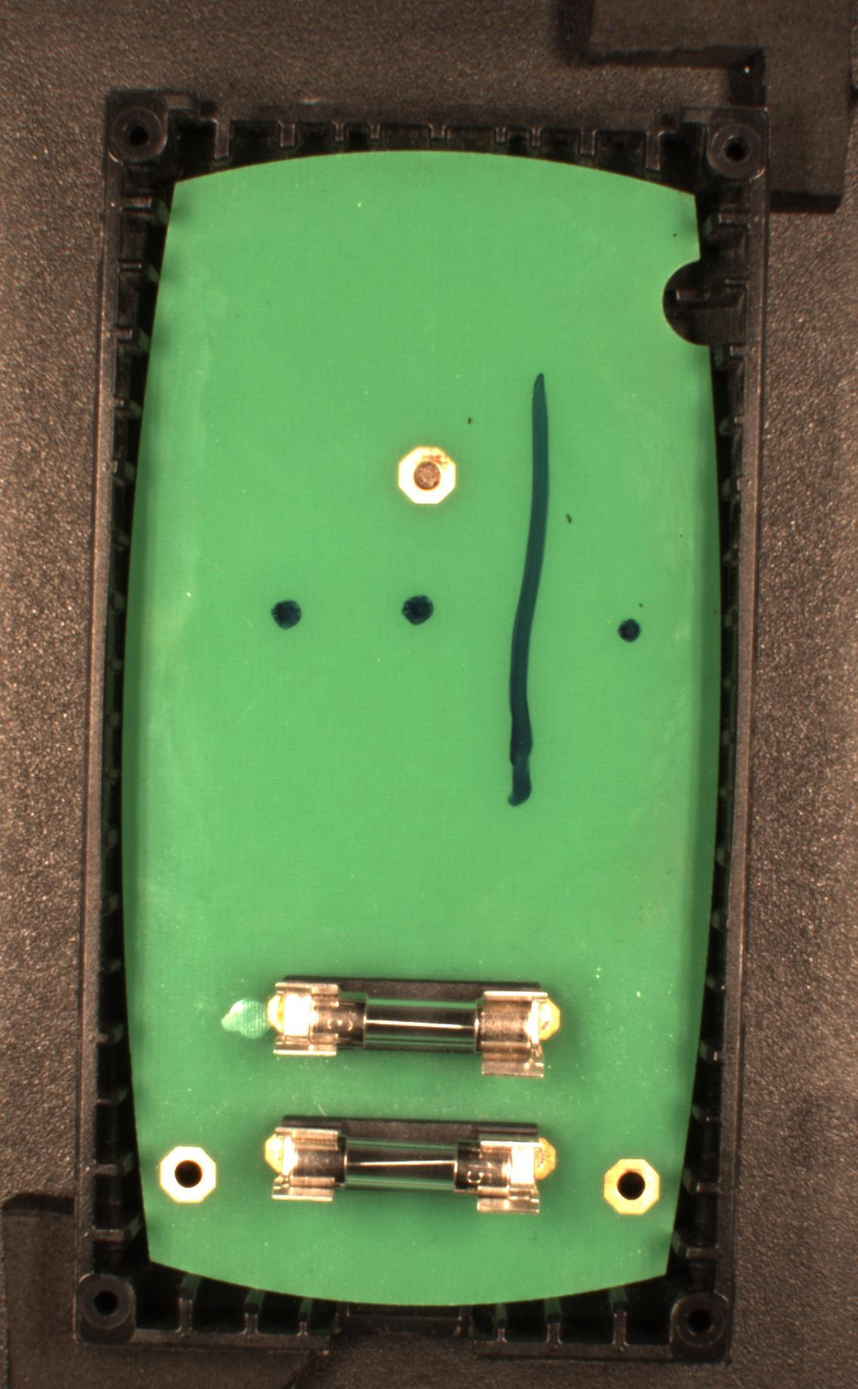Linijsko Ostecene: (503, 372, 552, 811)
Tockasto Ostecenje: (269, 598, 307, 637), (399, 591, 437, 630), (616, 617, 641, 645)
